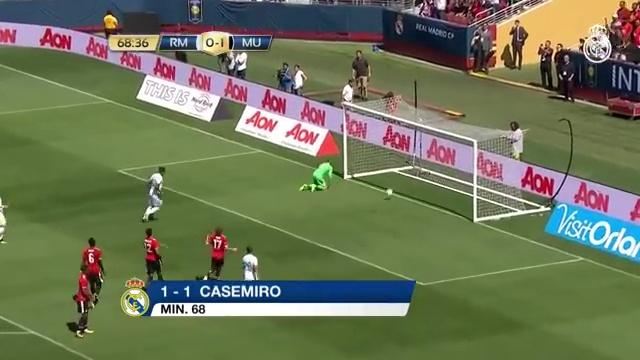football: (383, 186, 398, 200)
player: (204, 227, 236, 279), (82, 238, 104, 304), (73, 266, 92, 337), (142, 167, 165, 221), (143, 228, 163, 283), (299, 161, 332, 191), (242, 246, 258, 280), (0, 198, 8, 244)
